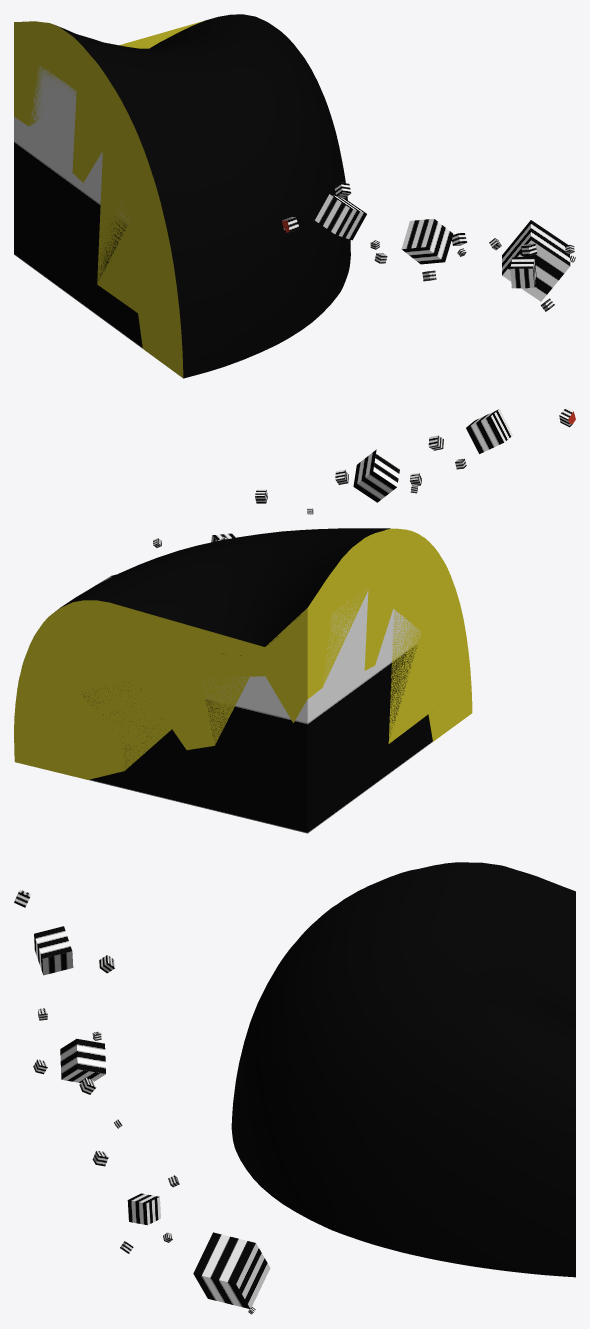
File: SM_Apple_Behind_LT_5.fbx
The picture shows the model from 3 angles, top to bottom: view 1: azimuth 30°, elevation 25°; view 2: azimuth 150°, elevation 25°; view 3: azimuth 270°, elevation 25°; orthographic projection. The views are drawn at different scales.
Visible parts, largest first — view 1: apple crater.006, geng.005; view 2: apple crater.006, geng.005; view 3: apple crater.006, geng.005.
Part boxes in pixels (x1,y1,x2,y2): apple crater.006: (14,14,350,378); geng.005: (282,182,575,311); apple crater.006: (14,528,472,833); geng.005: (97,407,575,584); apple crater.006: (231,862,575,1277); geng.005: (14,889,270,1314).
Size of the model in its own units: 143 by 88.68 by 170.
